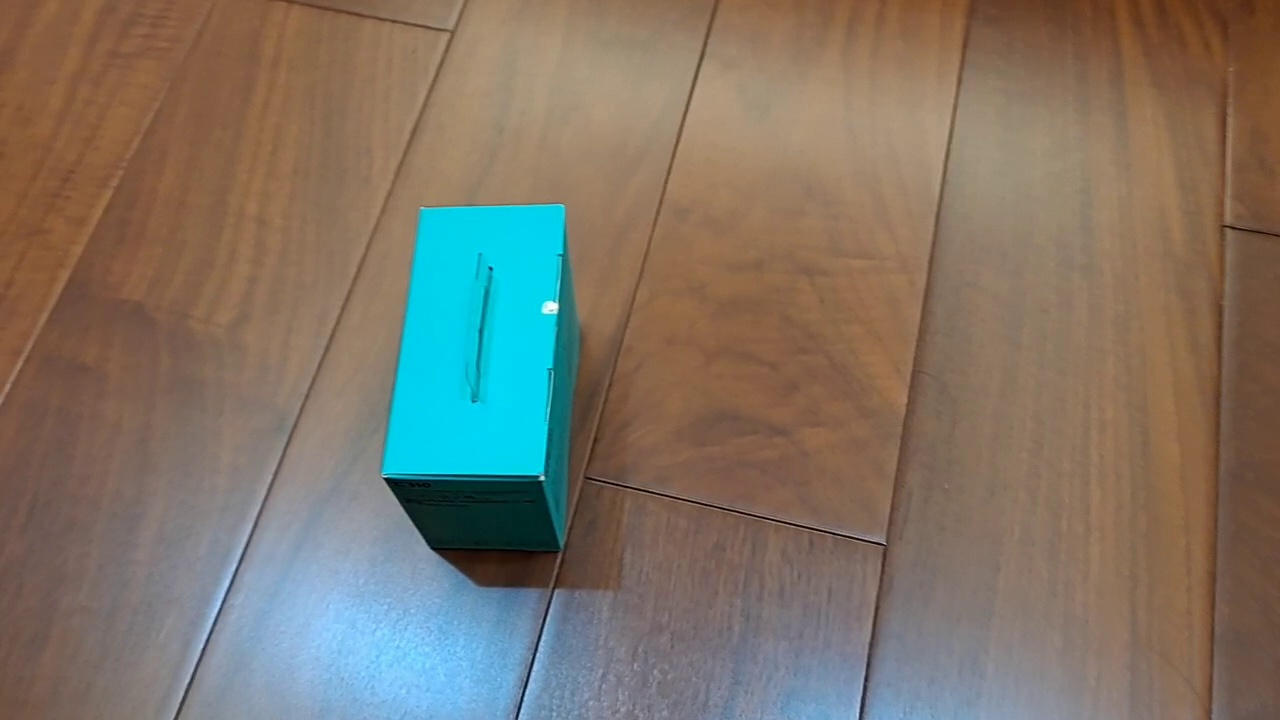webcam: (379, 202, 582, 553)
